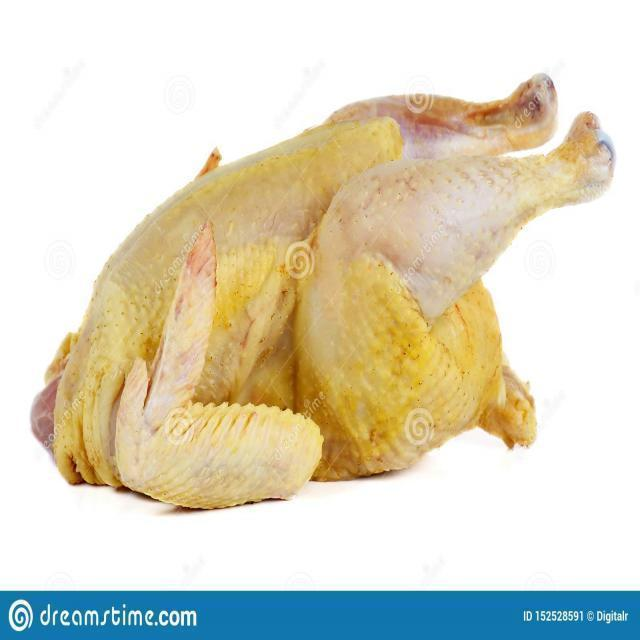chicken: (30, 73, 619, 504)
